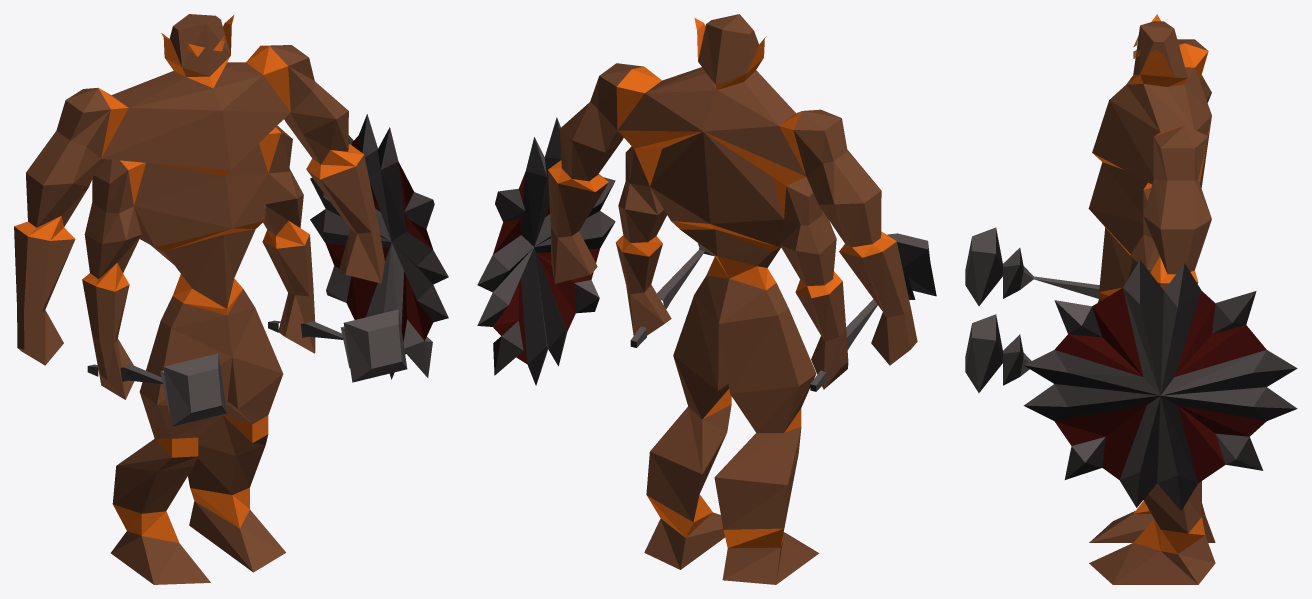
File: tzhaar-ket-rak-s-challenges.gltf
3 views of the same model, side by side, from view 1: azimuth 30°, elevation 25°; view 2: azimuth 150°, elevation 25°; view 3: azimuth 270°, elevation 25° (orthographic).
Bounding box in the file's own units: 129 × 170 × 97.
2 materials, 2 textured.
